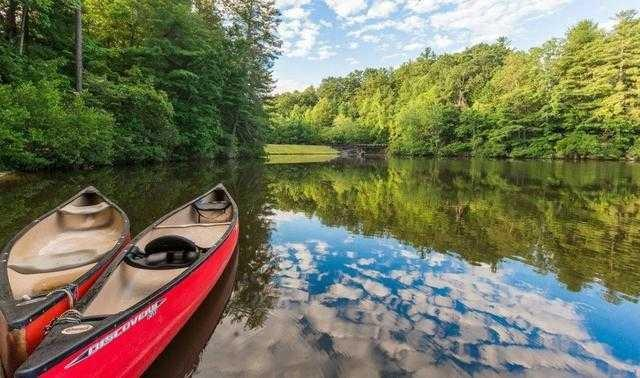kayak: (3, 183, 241, 375)
